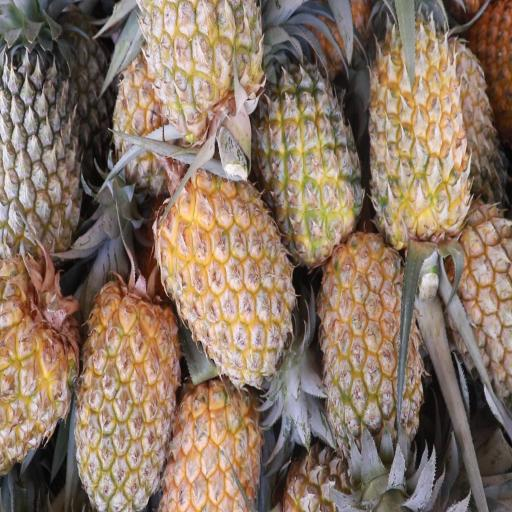------------------------------: (258, 57, 366, 276), (136, 2, 270, 174)
Pineapple - v8 v1: (154, 151, 300, 406), (316, 234, 424, 508), (71, 260, 182, 512), (367, 5, 474, 266), (0, 258, 89, 484), (162, 355, 264, 512), (447, 213, 512, 426)
